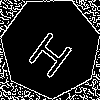H: (25, 22, 81, 81)
